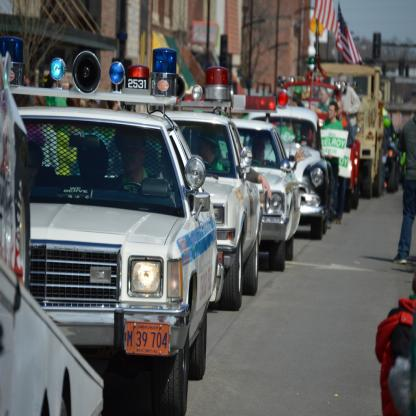Car: (5, 45, 218, 416), (153, 64, 263, 310), (209, 99, 304, 273), (245, 94, 334, 245)
